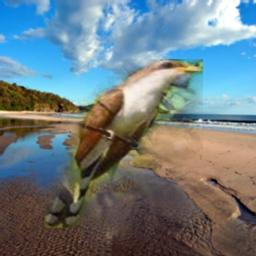Cuckoo: (45, 59, 203, 228)
